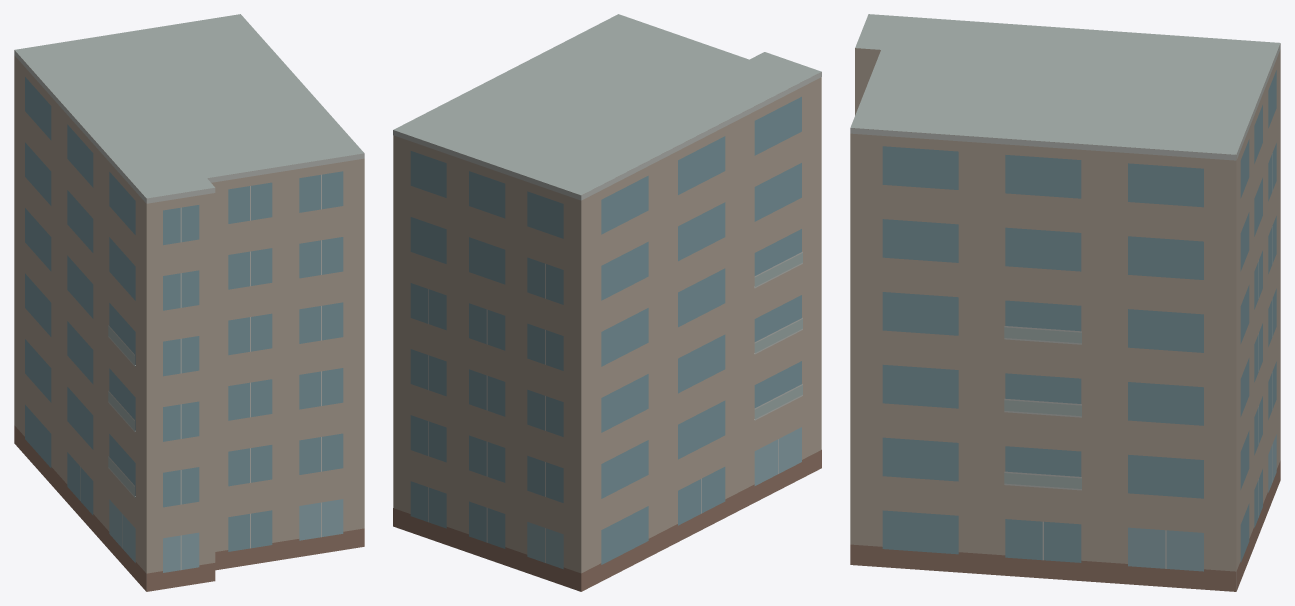
File: survey-upis-32953796.glb
3 views of the same model, side by side, from view 1: azimuth 30°, elevation 25°; view 2: azimuth 150°, elevation 25°; view 3: azimuth 270°, elevation 25° (orthographic). The views are drawn at different scales.
Parts seen in each view (by area): view 1: survey-upis-32953796.tmp; view 2: survey-upis-32953796.tmp; view 3: survey-upis-32953796.tmp.
Boxes of the visible parts, x1,y1,x2,y2 form: survey-upis-32953796.tmp: (14, 14, 364, 591); survey-upis-32953796.tmp: (393, 14, 821, 591); survey-upis-32953796.tmp: (850, 14, 1280, 591).
Bounding box in the file's own units: 12.65 × 18.3 × 16.34.
